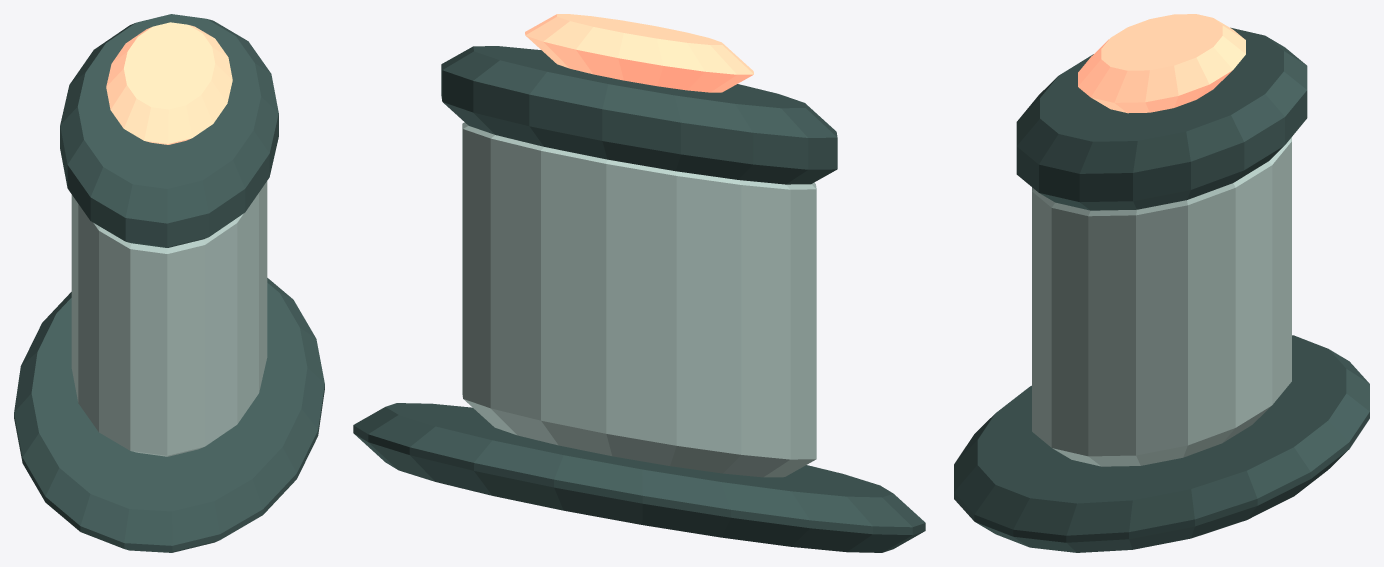
The model's file is Laser_Up.gltf.
3 views of the same model, side by side, from view 1: azimuth 30°, elevation 25°; view 2: azimuth 150°, elevation 25°; view 3: azimuth 270°, elevation 25° (orthographic). The views are drawn at different scales.
Parts seen in each view (by area): view 1: Laser_Up_baked; view 2: Laser_Up_baked; view 3: Laser_Up_baked.
Boxes of the visible parts, x1,y1,x2,y2 form: Laser_Up_baked: (14,14,324,552); Laser_Up_baked: (353,14,925,552); Laser_Up_baked: (954,14,1369,552).
Bounding box in the file's own units: 0.5792 × 0.7258 × 0.5334.
